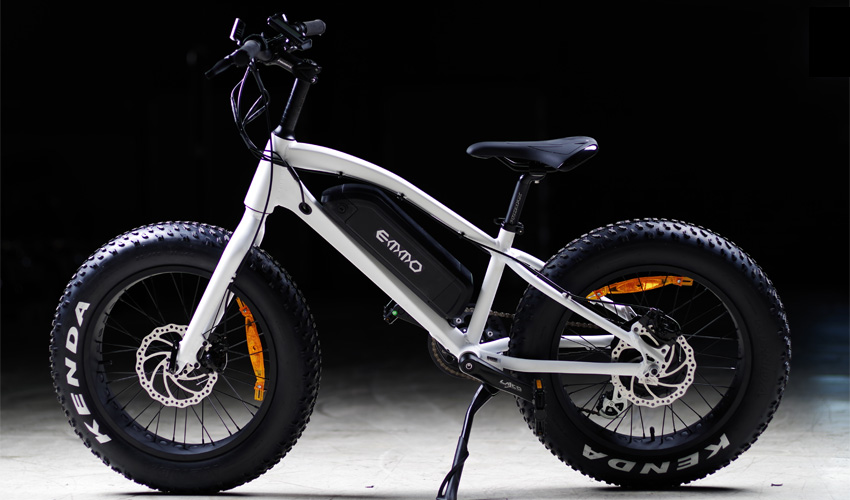bicycle: (44, 20, 791, 500)
